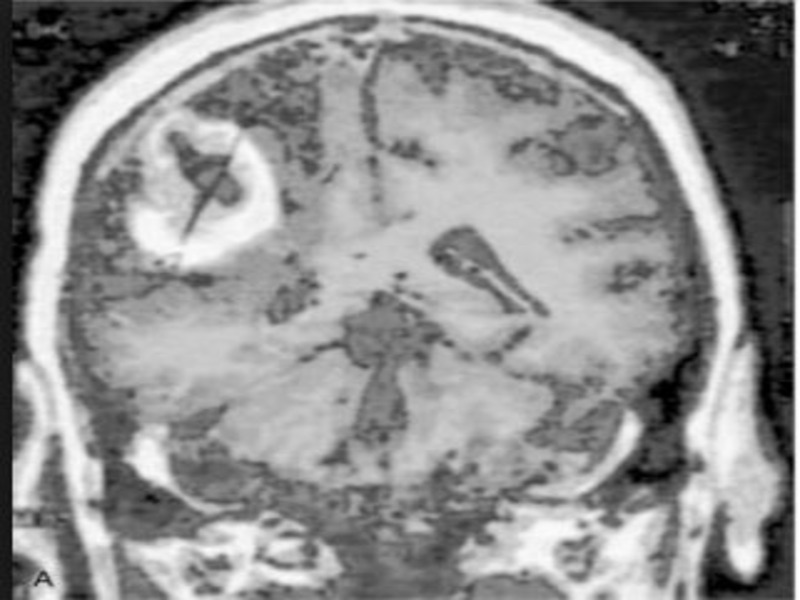tumor: (108, 100, 300, 278)
